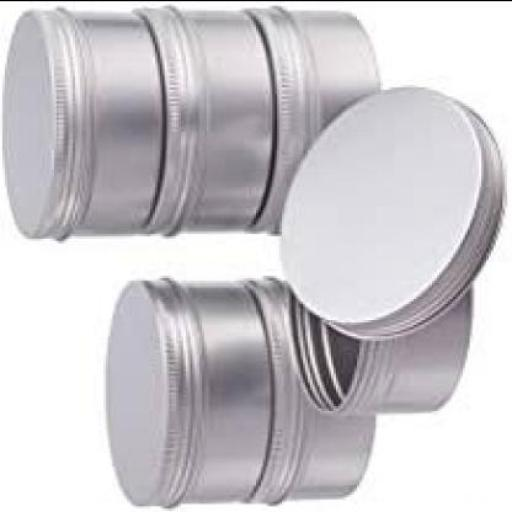metal: (277, 84, 501, 337), (105, 273, 273, 505), (2, 5, 160, 237), (132, 2, 267, 232), (240, 5, 375, 235), (288, 242, 470, 409), (242, 272, 371, 496)
